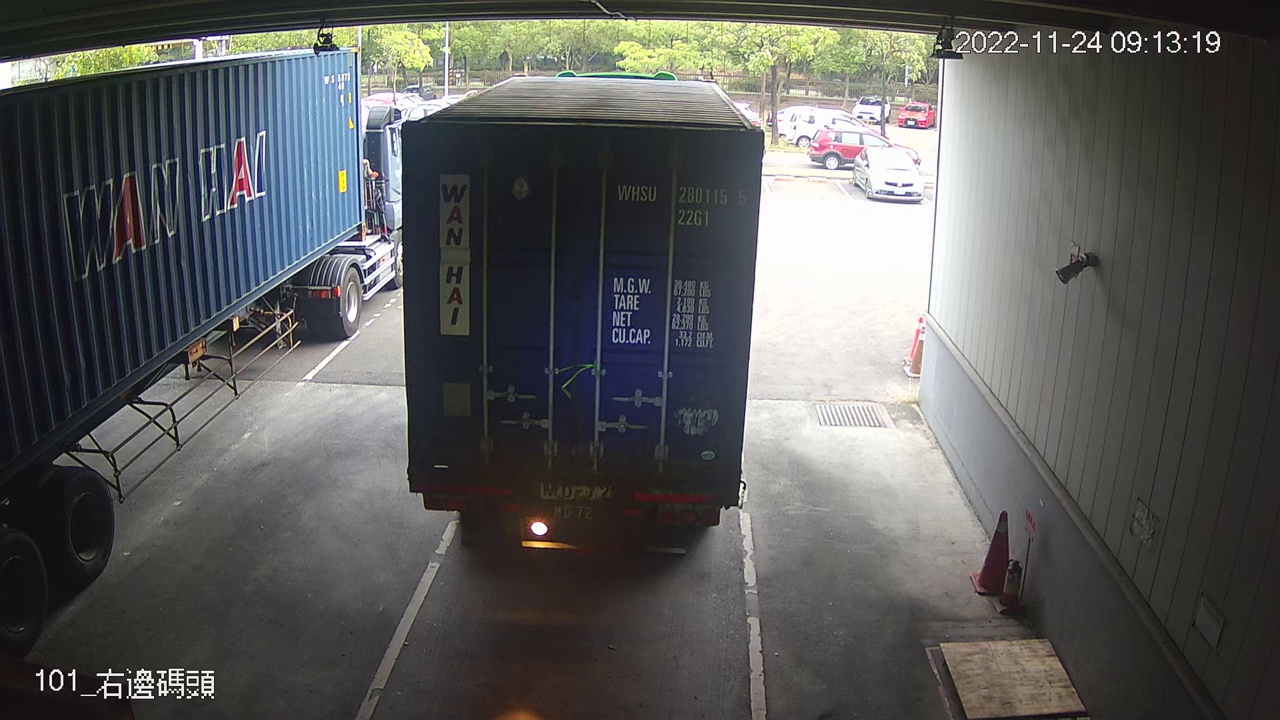container: (611, 176, 750, 232)
